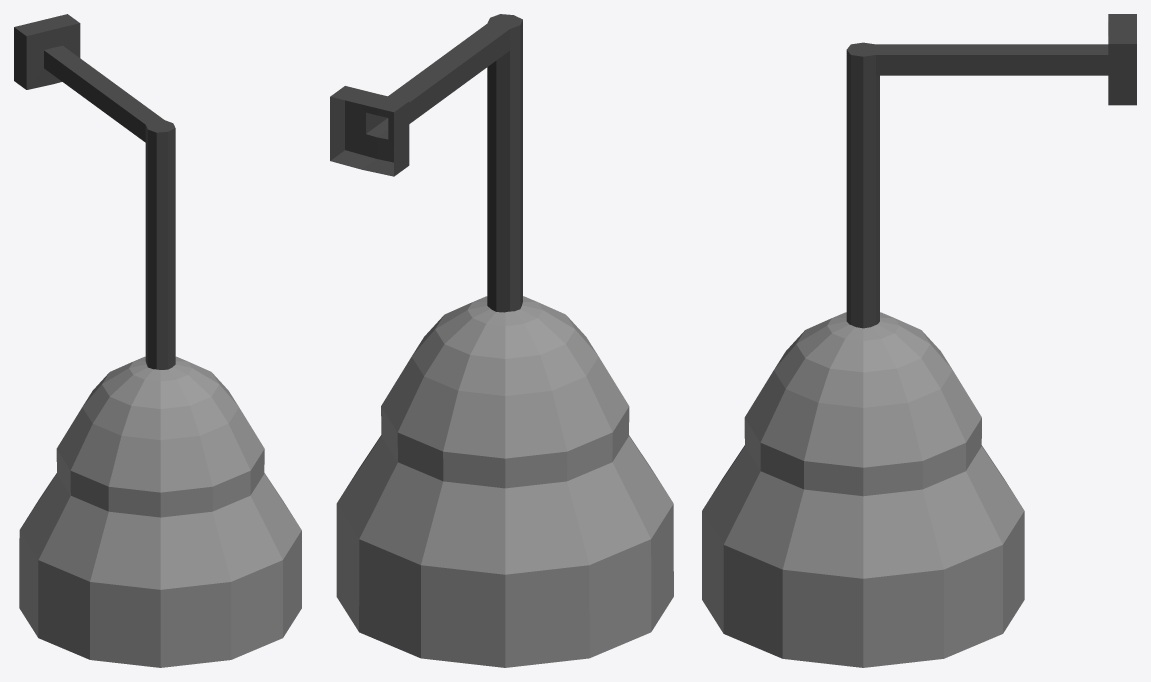
Rendered from Bell.fbx.
3 renders of one model, left to right at view 1: azimuth 30°, elevation 25°; view 2: azimuth 150°, elevation 25°; view 3: azimuth 270°, elevation 25°, orthographic. The views are drawn at different scales.
Parts seen in each view (by area): view 1: Bell; view 2: Bell; view 3: Bell.
Part boxes in pixels (left/top/right/bottom): Bell: left=14, top=14, right=301, bottom=667; Bell: left=330, top=14, right=673, bottom=667; Bell: left=702, top=14, right=1136, bottom=667.
Size of the model in its own units: 19.8 by 26.69 by 38.65.
